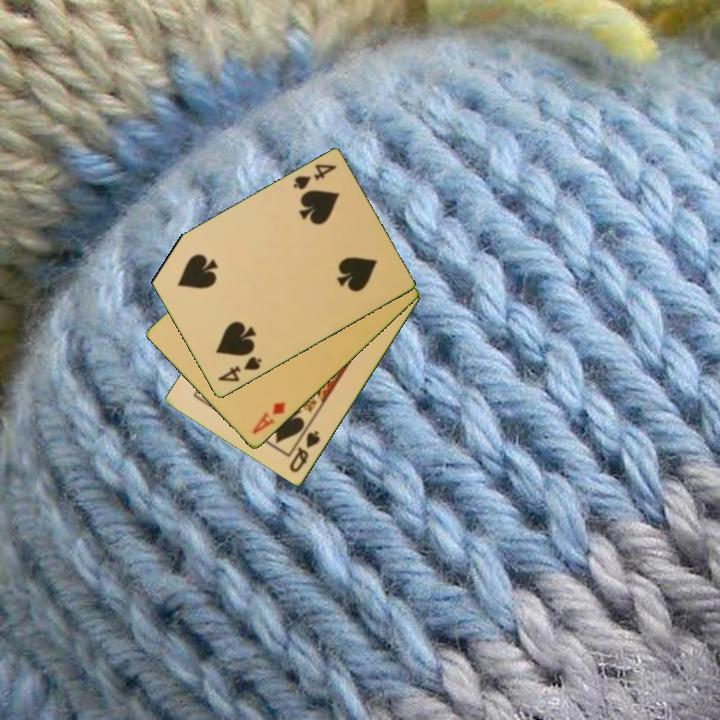4s: (214, 353, 264, 385), (289, 161, 339, 193)
Ad: (248, 399, 288, 438)
Qs: (286, 427, 323, 476)
